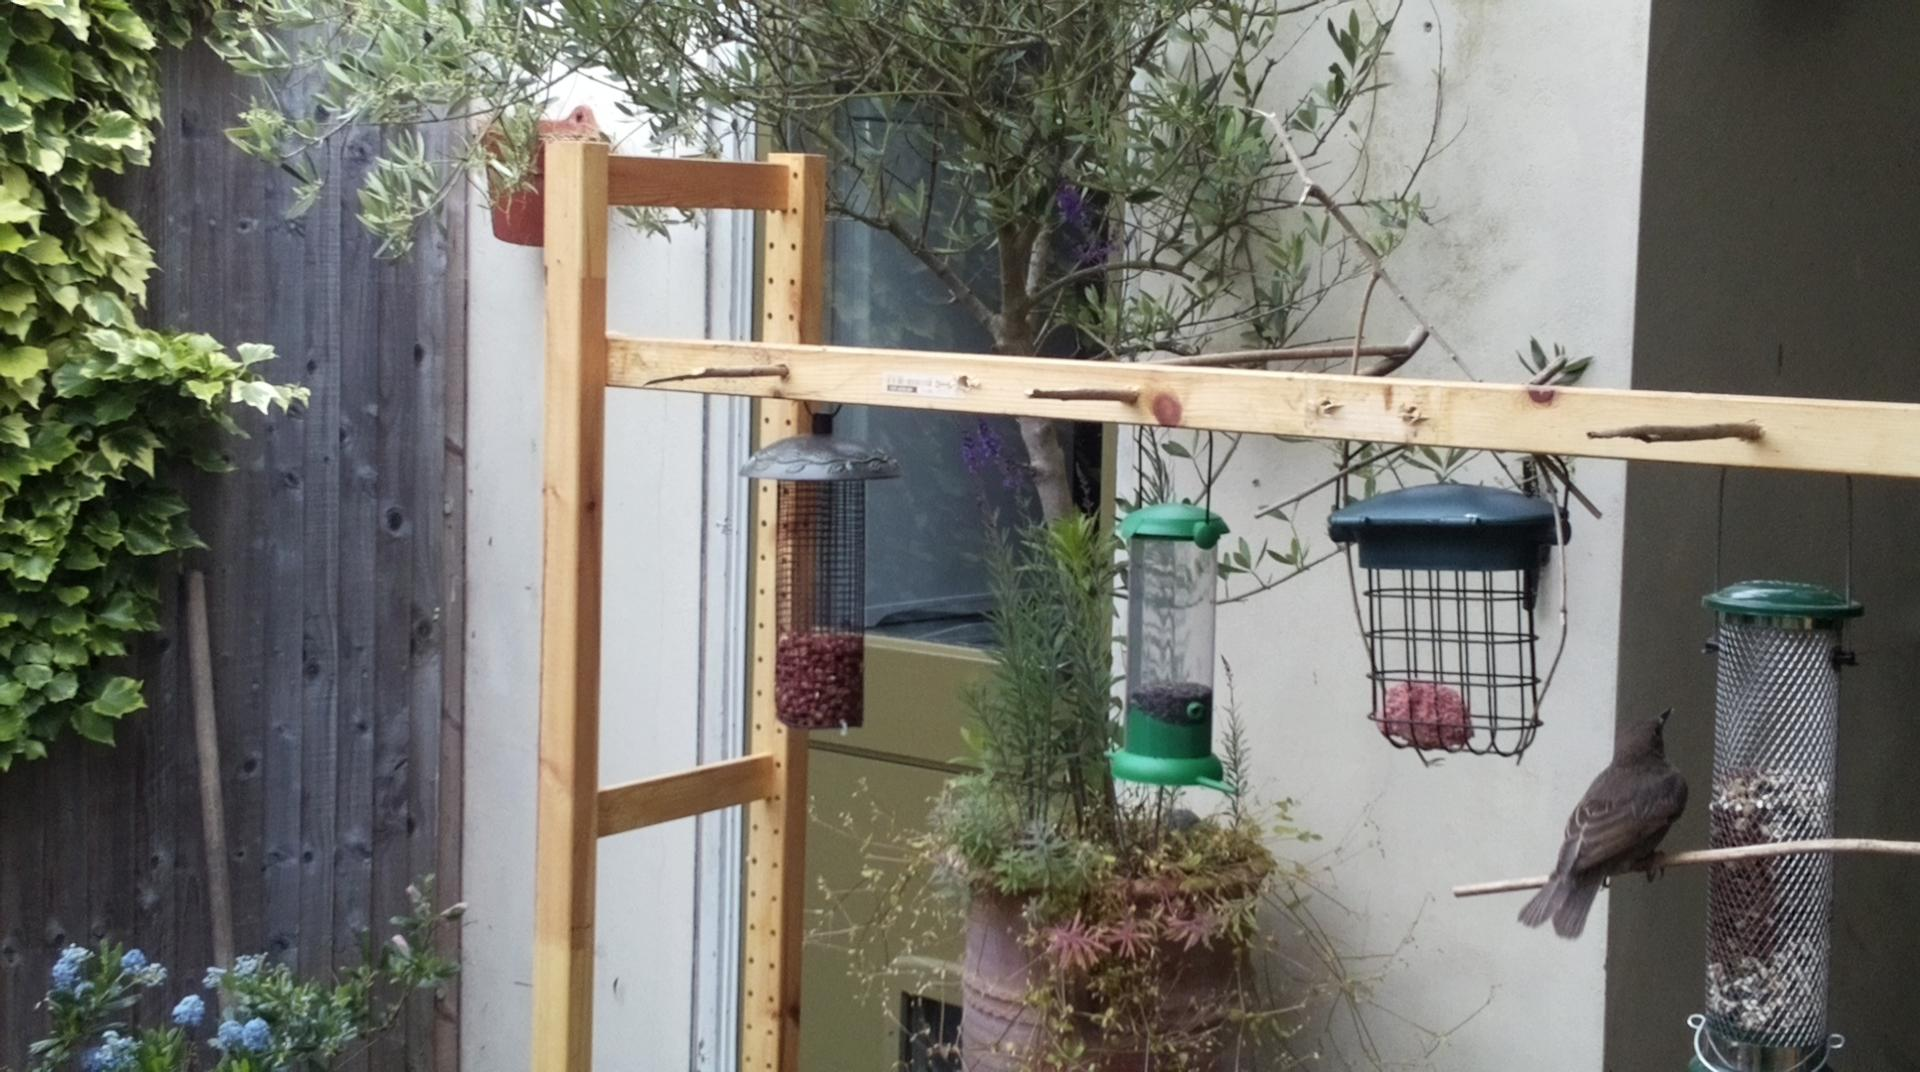starling: (1516, 705, 1688, 941)
